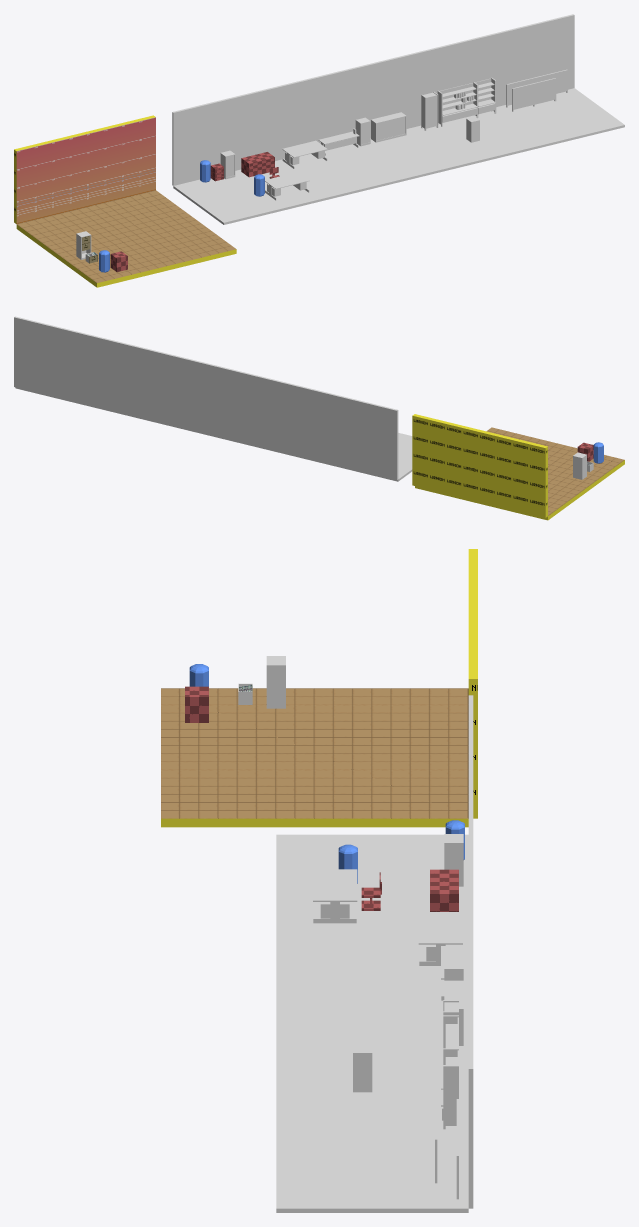
File: zoo_map.glb
The picture shows the model from 3 angles, top to bottom: view 1: azimuth 30°, elevation 25°; view 2: azimuth 150°, elevation 25°; view 3: azimuth 270°, elevation 25°; orthographic projection. The views are drawn at different scales.
Visible parts, largest first — view 1: zoo_map; view 2: zoo_map; view 3: zoo_map.
Part boxes in pixels (bbox=[...]): zoo_map: bbox=[14, 14, 624, 287]; zoo_map: bbox=[14, 316, 624, 520]; zoo_map: bbox=[161, 549, 477, 1212].
Bounding box in the file's own units: 2048 × 272 × 528.
35 materials, 7 textured.
